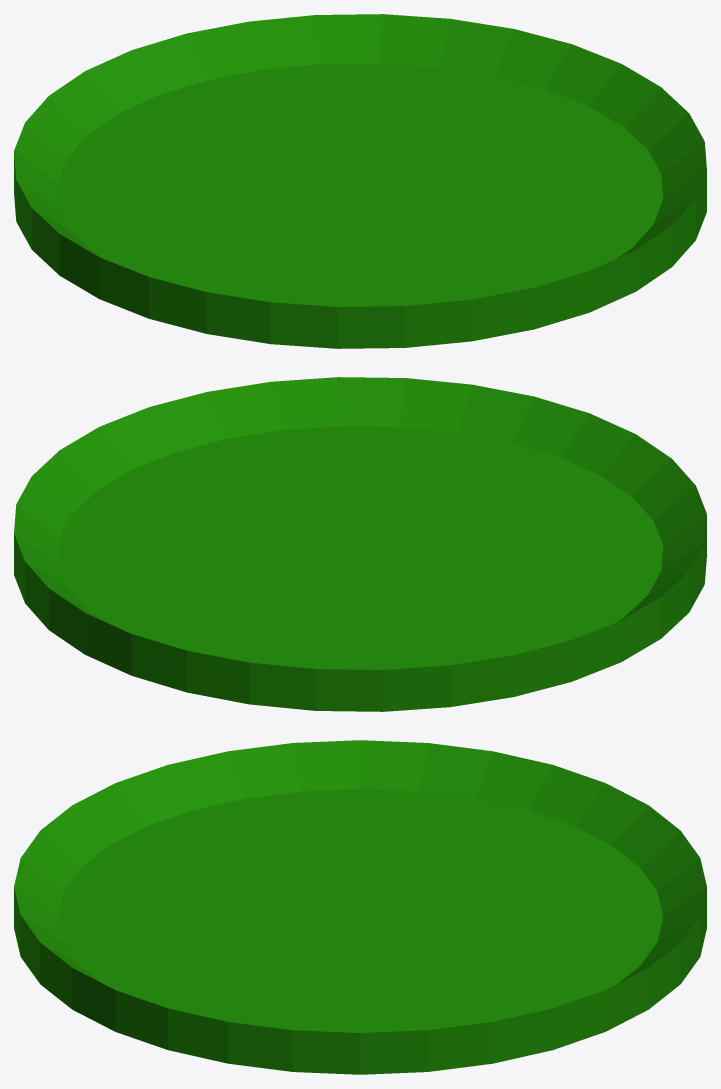
Rendered from waterlily_big.obj.
3 renders of one model, top to bottom at view 1: azimuth 30°, elevation 25°; view 2: azimuth 150°, elevation 25°; view 3: azimuth 270°, elevation 25°, orthographic.
Visible parts, largest first — view 1: Waterlily_Cylinder.015; view 2: Waterlily_Cylinder.015; view 3: Waterlily_Cylinder.015.
Part boxes in pixels (x1,y1,x2,y2): Waterlily_Cylinder.015: (14, 14, 706, 348); Waterlily_Cylinder.015: (14, 377, 706, 711); Waterlily_Cylinder.015: (14, 740, 706, 1074).
Size of the model in its own units: 0.3821 by 0.0254 by 0.3821.
